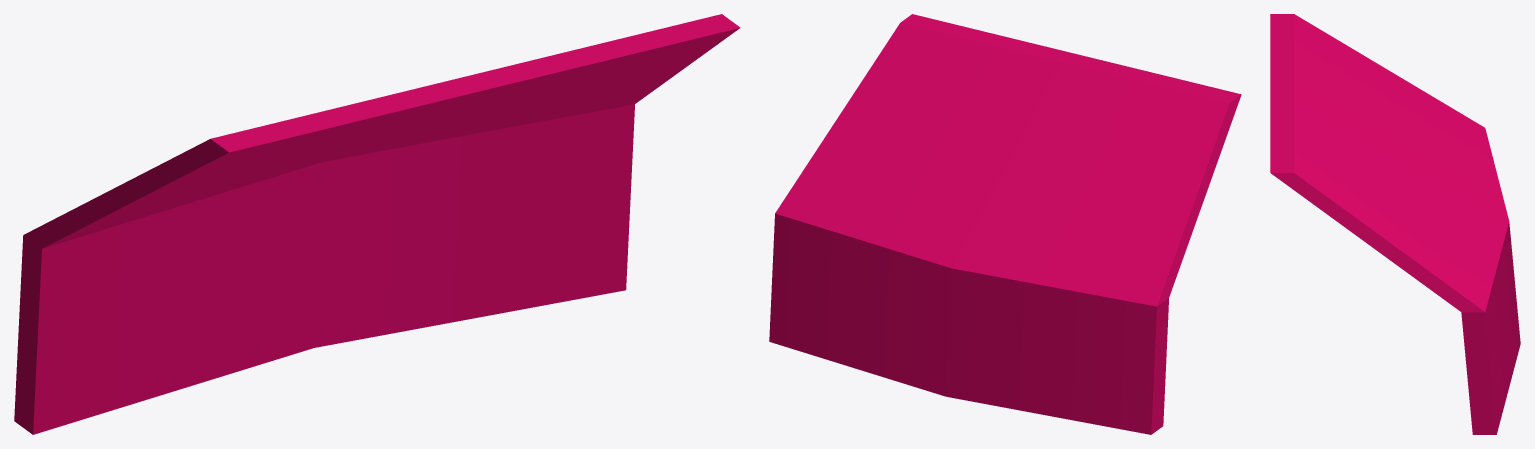
The model's file is Car_BackDoor_Collider.fbx.
The picture shows the model from 3 angles, left to right: view 1: azimuth 30°, elevation 25°; view 2: azimuth 150°, elevation 25°; view 3: azimuth 270°, elevation 25°; orthographic projection. The views are drawn at different scales.
Visible parts, largest first — view 1: Car_BackDoor_Collider; view 2: Car_BackDoor_Collider; view 3: Car_BackDoor_Collider.
Part boxes in pixels (x1,y1,x2,y2): Car_BackDoor_Collider: [14, 14, 740, 434]; Car_BackDoor_Collider: [769, 14, 1241, 434]; Car_BackDoor_Collider: [1270, 14, 1520, 434].
Size of the model in its own units: 134 by 84.24 by 77.04.
